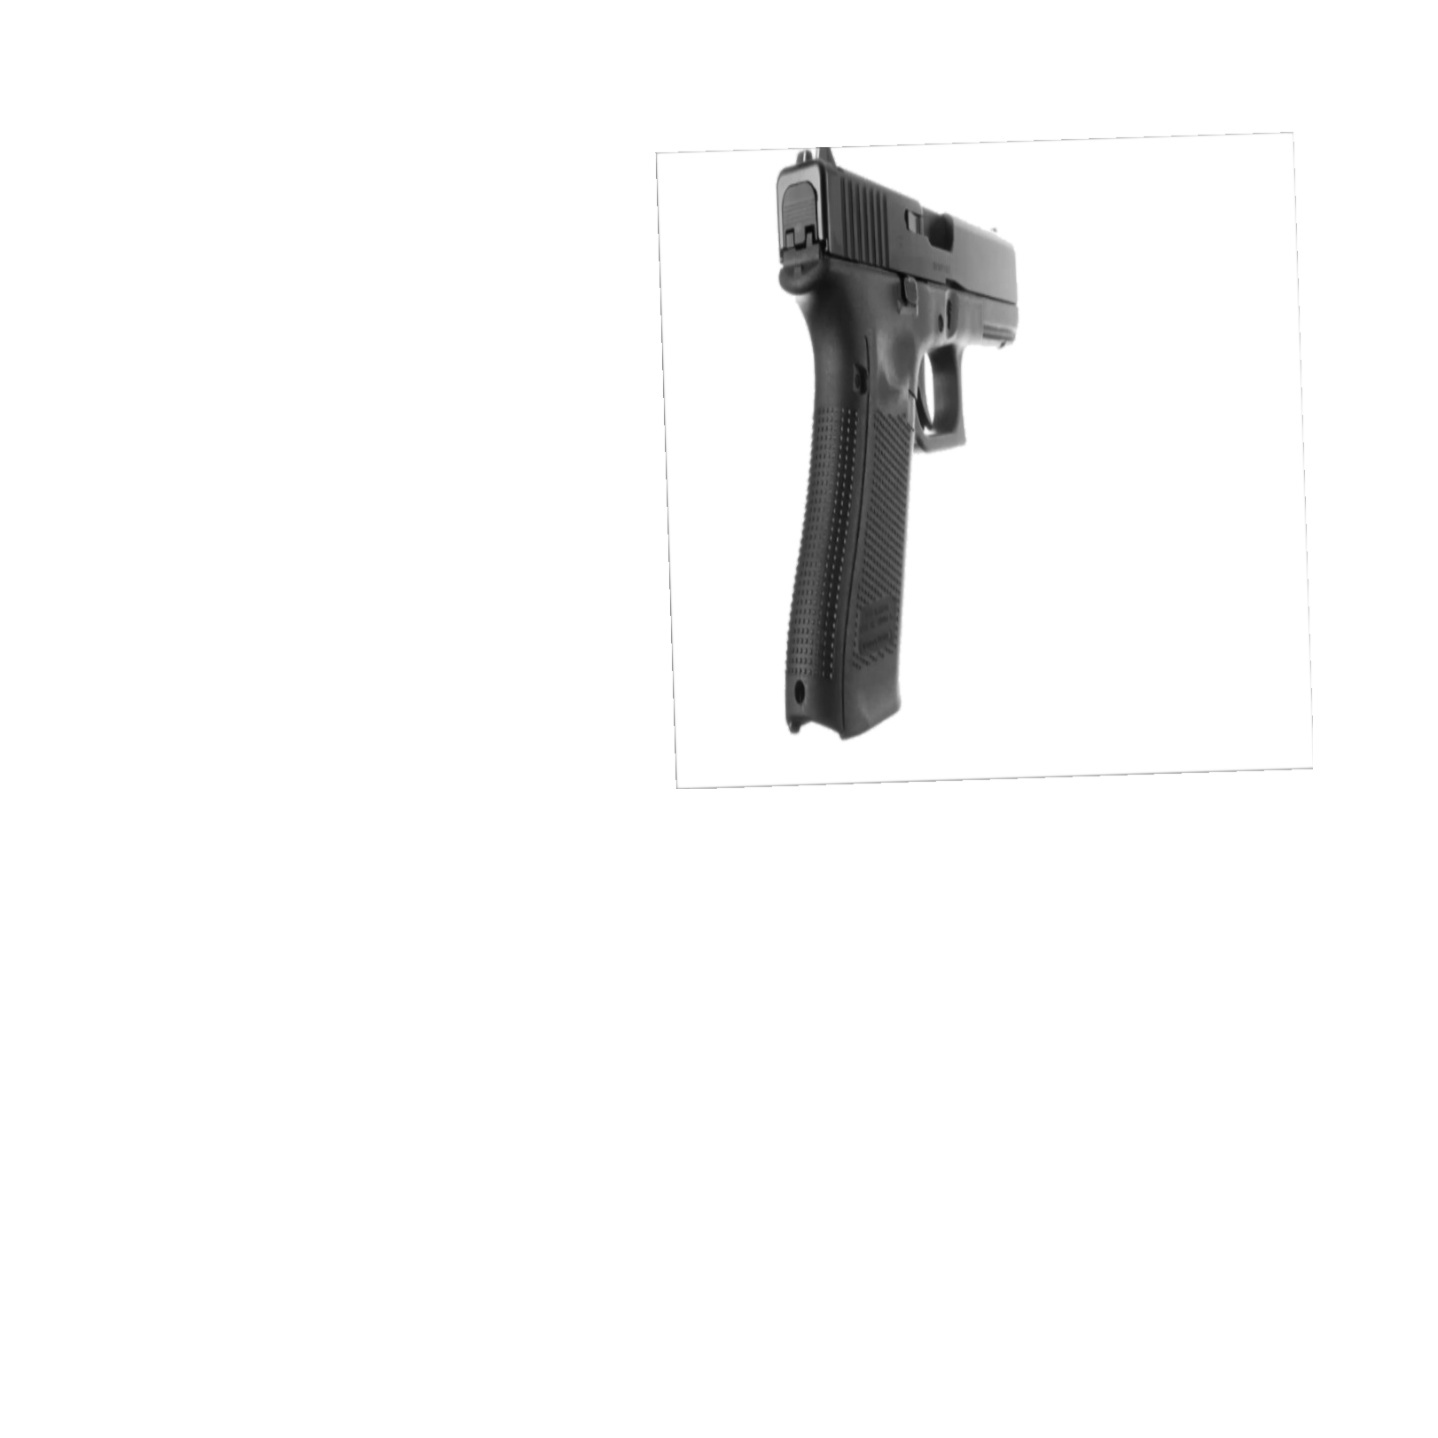gun: (776, 147, 1019, 741)
